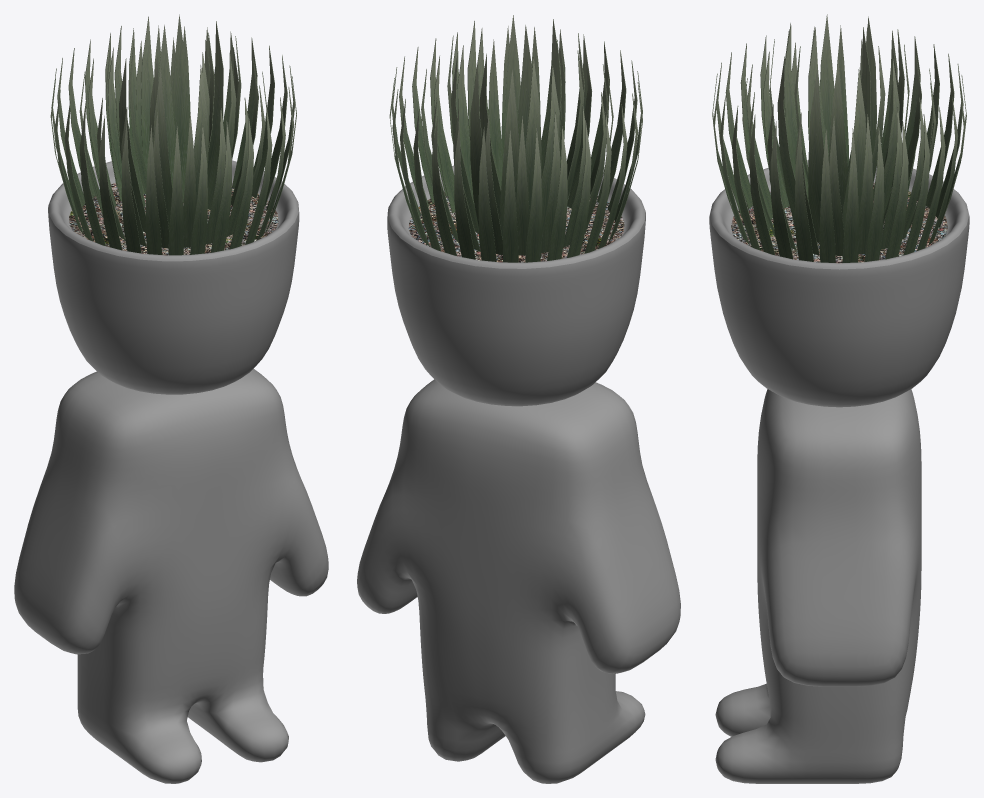
Rendered from Decor_Pot02.FBX.
3 views of the same model, side by side, from view 1: azimuth 30°, elevation 25°; view 2: azimuth 150°, elevation 25°; view 3: azimuth 270°, elevation 25° (orthographic). The views are drawn at different scales.
Parts seen in each view (by area): view 1: Decor_Pot2A, Grass2, Decor_Pot2B; view 2: Decor_Pot2A, Grass2, Decor_Pot2B; view 3: Decor_Pot2A, Grass2, Decor_Pot2B.
Part boxes in pixels (x1,y1,x2,y2): Decor_Pot2A: [14, 368, 328, 783]; Grass2: [50, 14, 296, 255]; Decor_Pot2B: [48, 160, 299, 394]; Decor_Pot2A: [357, 379, 680, 783]; Grass2: [389, 15, 642, 262]; Decor_Pot2B: [387, 165, 645, 406]; Decor_Pot2A: [715, 389, 921, 783]; Grass2: [712, 14, 966, 262]; Decor_Pot2B: [709, 158, 969, 407].
Size of the model in its own units: 796 by 1951 by 640.
